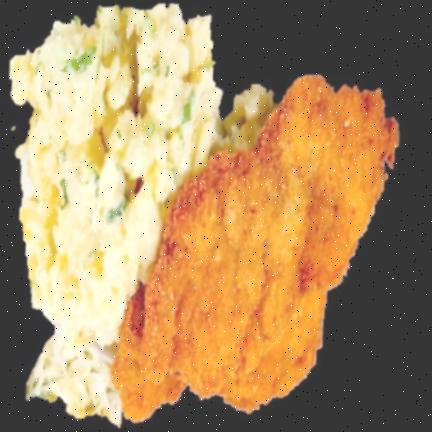chicken: (133, 76, 397, 407)
potato: (10, 5, 272, 358)
